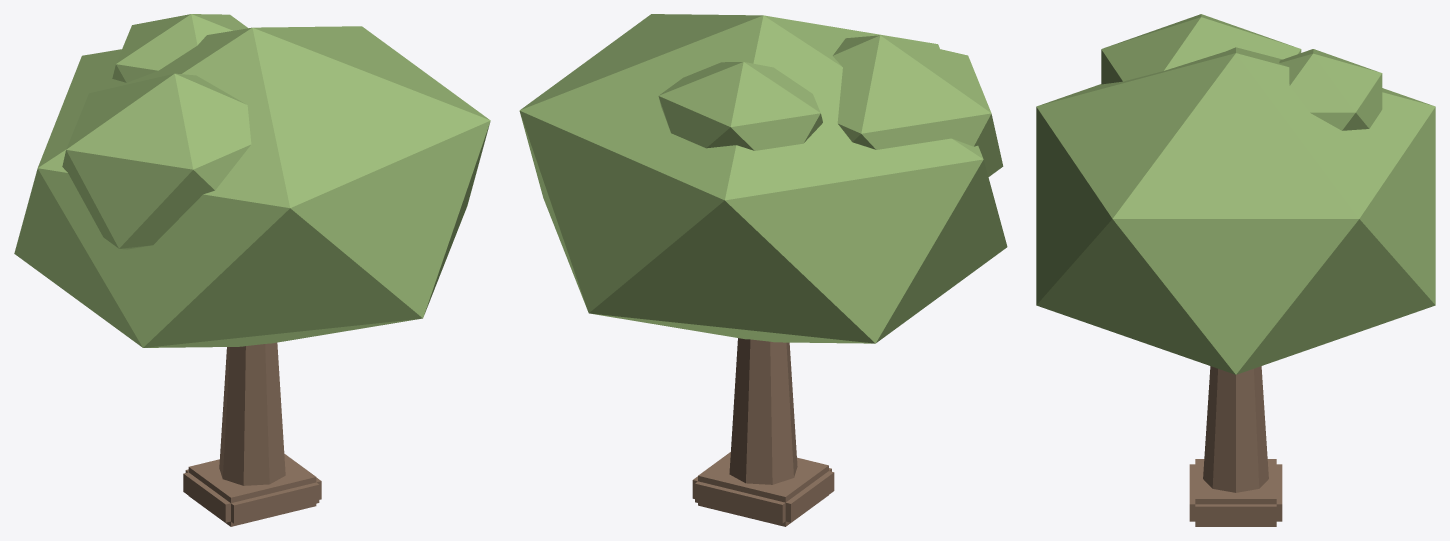
Rendered from round.glb.
3 renders of one model, left to right at view 1: azimuth 30°, elevation 25°; view 2: azimuth 150°, elevation 25°; view 3: azimuth 270°, elevation 25°, orthographic. The views are drawn at different scales.
Parts seen in each view (by area): view 1: Canopy, Canopy_A, Trunk, RootFlare, Canopy_C; view 2: Canopy, Canopy_A, Canopy_C, Trunk, RootFlare; view 3: Canopy, Trunk, Canopy_A, Canopy_C, RootFlare.
Part boxes in pixels (x1,y1,x2,y2): Canopy: (14,26,490,347); Canopy_A: (62,73,251,249); Trunk: (219,342,285,485); RootFlare: (183,454,321,526); Canopy_C: (112,14,248,82); Canopy: (519,14,1007,343); Canopy_A: (833,35,1003,176); Canopy_C: (658,62,822,150); Trunk: (729,338,797,484); RootFlare: (692,452,834,526); Canopy: (1036,47,1435,374); Trunk: (1203,366,1268,492); Canopy_A: (1101,14,1301,84); Canopy_C: (1279,49,1382,130); RootFlare: (1189,459,1282,526).
Bounding box in the file's own units: 2.46 × 2.59 × 2.07.
